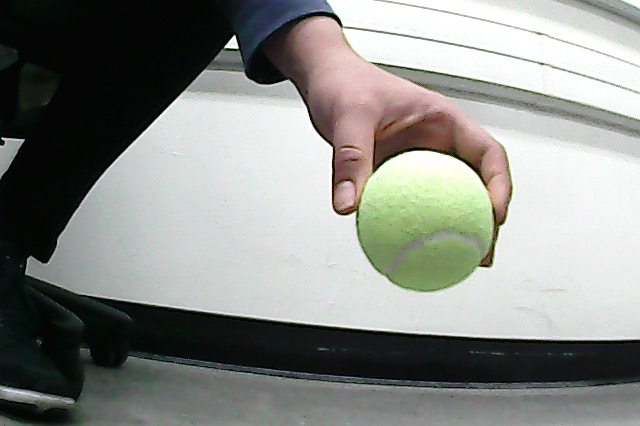ball: (350, 146, 501, 296)
